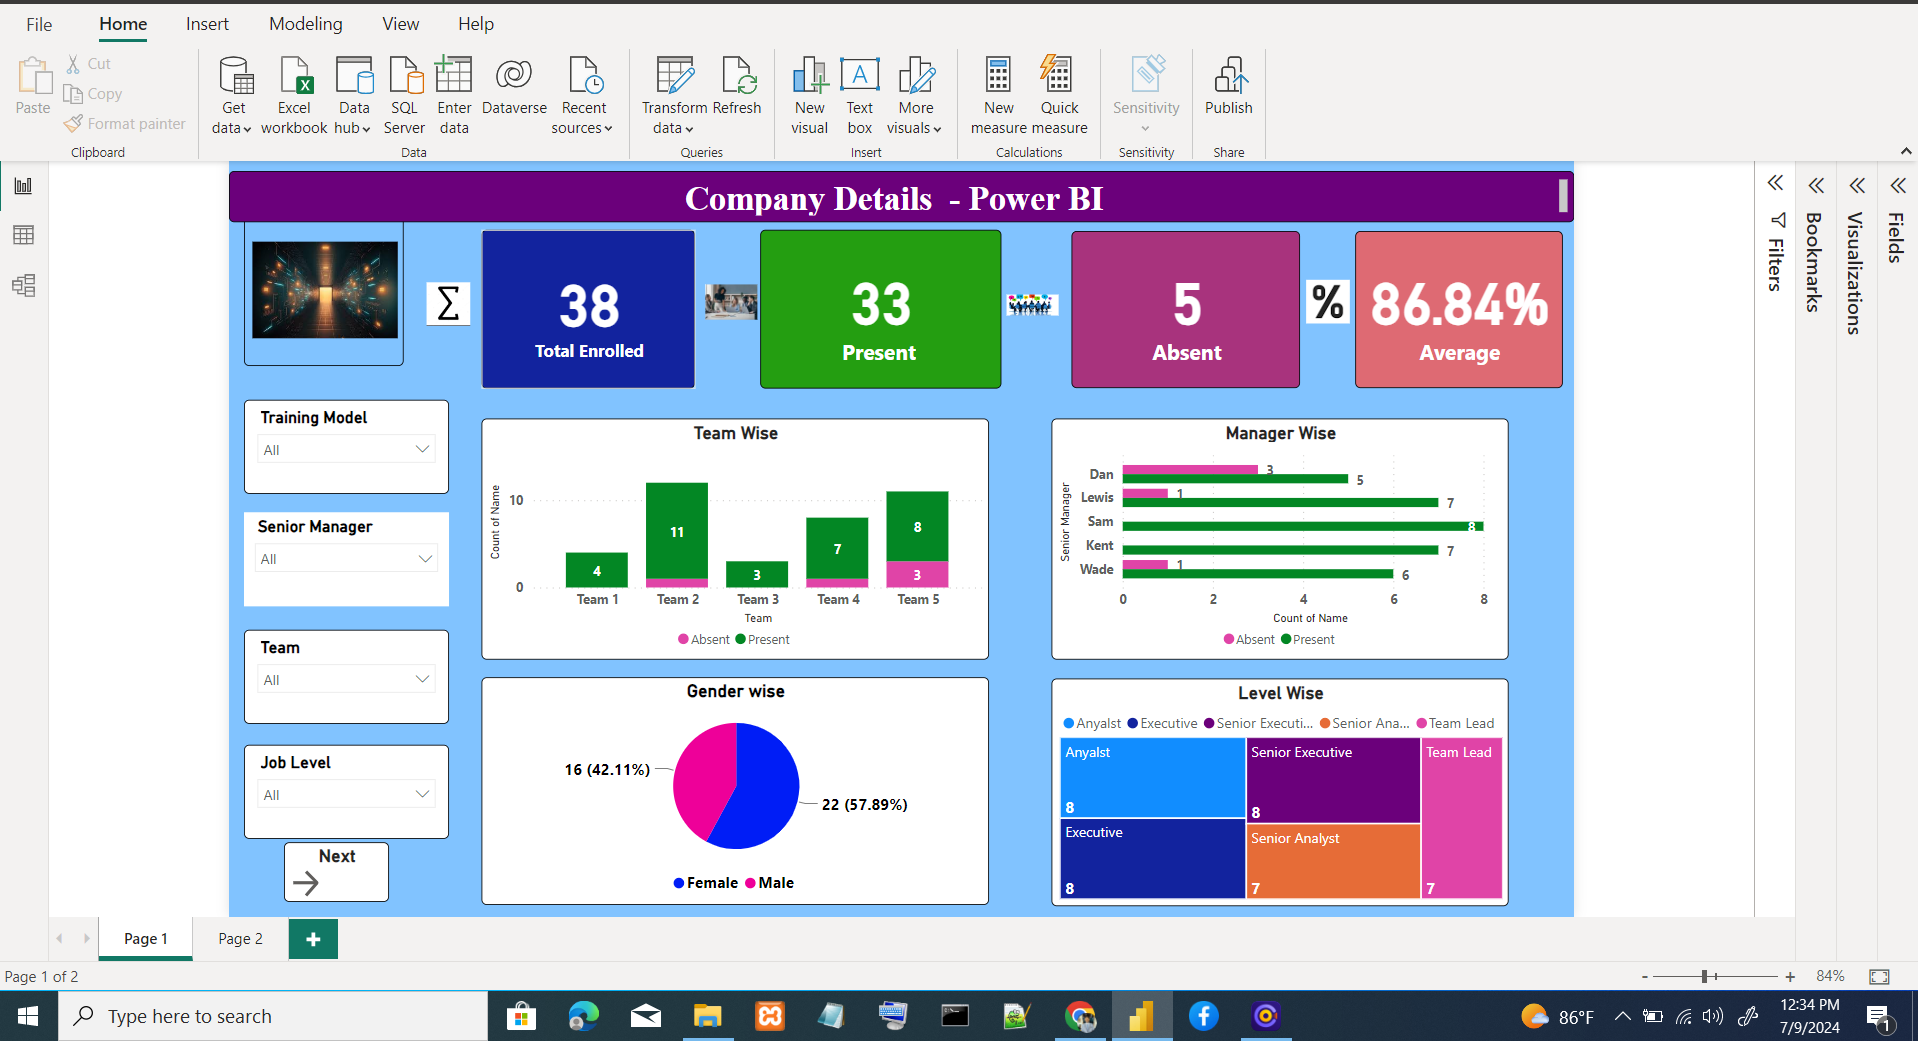

The dashboard page shown, as its layout file describes it:
{"tool":"powerbi","page":{"name":"Page 1","canvas":[1280,720],"ordinal":0},"visuals":[{"type":"card","fields":{"Values":["Data.Name"]},"box":[240.4,65.5,203.5,151.1],"z":0},{"type":"card","fields":{"Values":["Data.Name"]},"box":[505.8,65.5,229.7,151.1],"z":1000},{"type":"card","fields":{"Values":["Data.Name"]},"box":[802.1,66.6,217.8,150],"z":2000},{"type":"card","fields":{"Values":["Data.Attendance Status"]},"box":[1072.3,66.6,197.6,150],"z":3000},{"type":"columnChart","title":"Team Wise ","fields":{"Category":["Data.Team"],"Y":["Data.Name"],"Series":["Data.Attendance"]},"box":[240.4,245.2,483.2,229.7],"z":4000},{"type":"clusteredBarChart","title":"Manager  Wise ","fields":{"Category":["Data.Senior Manager"],"Y":["Data.Name"],"Series":["Data.Attendance"]},"box":[783.1,245.2,435.6,229.7],"z":4001},{"type":"pieChart","title":"Gender wise ","fields":{"Category":["Data.Gender"],"Y":["Data.Name"]},"box":[240.4,491.5,483.2,216.6],"z":4002},{"type":"treemap","title":"Level Wise ","fields":{"Group":["Data.Job Level"],"Values":["Data.Name"]},"box":[783.1,492.7,435.6,216.6],"z":4003},{"type":"slicer","fields":{"Values":["Data.Training Model"]},"box":[14.3,227.3,195.2,89.3],"z":4004},{"type":"slicer","fields":{"Values":["Data.Senior Manager"]},"box":[14.3,334.4,195.2,89.3],"z":4005},{"type":"slicer","fields":{"Values":["Data.Team"]},"box":[14.3,446.3,195.2,89.3],"z":4006},{"type":"slicer","fields":{"Values":["Data.Job Level"]},"box":[14.3,555.8,195.2,89.3],"z":4007},{"type":"image","box":[14.3,48.8,152.3,146.4],"z":4008},{"type":"actionButton","title":"Next ","box":[52.4,648.6,100,57.1],"z":4009},{"type":"image","box":[180.9,110.7,55.9,51.2],"z":4010},{"type":"image","box":[448.7,107.1,59.5,54.7],"z":4011},{"type":"image","box":[735.5,102.3,59.5,70.2],"z":4012},{"type":"image","box":[1019.9,108.3,52.4,51.2],"z":4013},{"type":"textbox","box":[0,9.5,1280.5,48.8],"z":4014}]}

Visuals, with their boxes on the page's 1280x720 design canvas (x1, y1, x2, y2). These are canvas units, not pixel positions in the 1918x1041 screenshot, which may show the page scaled, cropped or inside an application window:
card - Data.Name: <bbox>240, 66, 444, 217</bbox>
card - Data.Name: <bbox>506, 66, 736, 217</bbox>
card - Data.Name: <bbox>802, 67, 1020, 217</bbox>
card - Data.Attendance Status: <bbox>1072, 67, 1270, 217</bbox>
"Team Wise " columnChart: <bbox>240, 245, 724, 475</bbox>
"Manager  Wise " clusteredBarChart: <bbox>783, 245, 1219, 475</bbox>
"Gender wise " pieChart: <bbox>240, 492, 724, 708</bbox>
"Level Wise " treemap: <bbox>783, 493, 1219, 709</bbox>
slicer - Data.Training Model: <bbox>14, 227, 210, 317</bbox>
slicer - Data.Senior Manager: <bbox>14, 334, 210, 424</bbox>
slicer - Data.Team: <bbox>14, 446, 210, 536</bbox>
slicer - Data.Job Level: <bbox>14, 556, 210, 645</bbox>
image: <bbox>14, 49, 167, 195</bbox>
"Next " actionButton: <bbox>52, 649, 152, 706</bbox>
image: <bbox>181, 111, 237, 162</bbox>
image: <bbox>449, 107, 508, 162</bbox>
image: <bbox>736, 102, 795, 172</bbox>
image: <bbox>1020, 108, 1072, 160</bbox>
textbox: <bbox>0, 10, 1280, 58</bbox>
